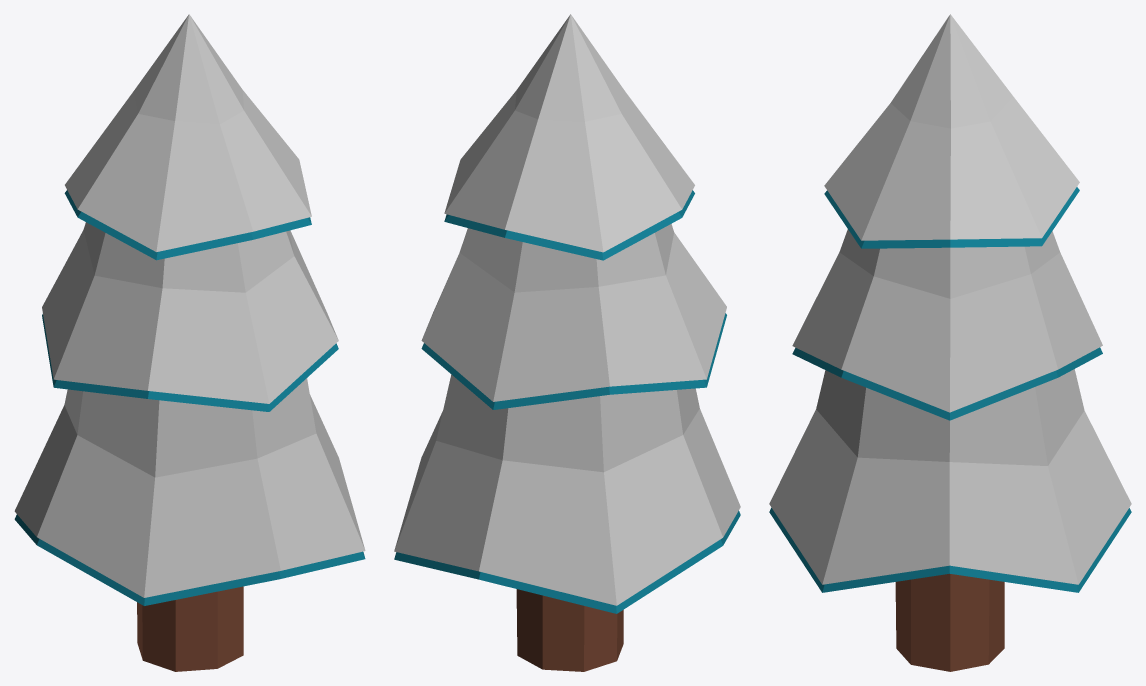
Rendered from Tree_01_winter_blue_vc.fbx.
The picture shows the model from 3 angles, left to right: view 1: azimuth 30°, elevation 25°; view 2: azimuth 150°, elevation 25°; view 3: azimuth 270°, elevation 25°; orthographic projection.
Visible parts, largest first — view 1: Tree_01_winter_blue_vc; view 2: Tree_01_winter_blue_vc; view 3: Tree_01_winter_blue_vc.
Part boxes in pixels (x1,y1,x2,y2): Tree_01_winter_blue_vc: (14, 14, 365, 671); Tree_01_winter_blue_vc: (394, 14, 740, 671); Tree_01_winter_blue_vc: (769, 14, 1131, 671).
Size of the model in its own units: 83.22 by 167 by 86.78.
